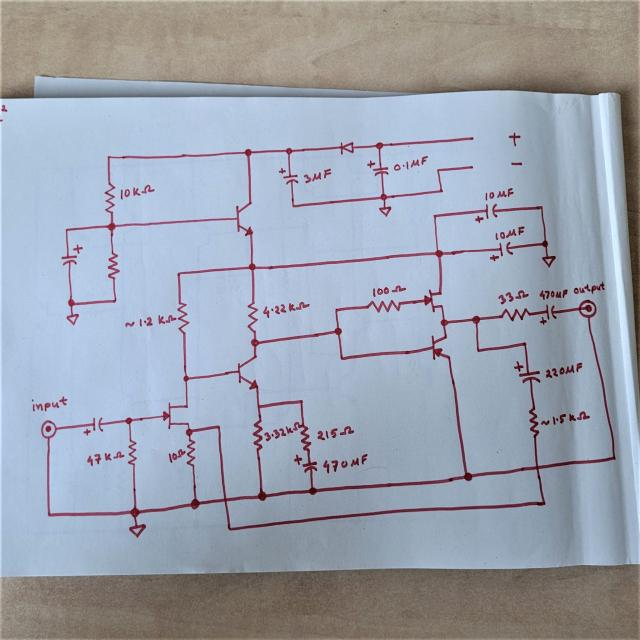capacitor: (513, 359, 541, 384), (489, 240, 514, 264), (60, 244, 84, 268), (474, 202, 498, 223), (293, 454, 318, 473), (82, 416, 104, 436), (538, 304, 558, 326), (278, 167, 300, 185), (366, 160, 389, 177)
crossover: (532, 462, 542, 472), (222, 496, 230, 504)
diode: (337, 140, 356, 156)
ground: (127, 522, 147, 540), (540, 254, 556, 268), (66, 312, 80, 326), (378, 205, 392, 217)
junction: (128, 506, 141, 518), (105, 220, 117, 233), (188, 498, 200, 510), (256, 489, 267, 502), (607, 452, 619, 463), (332, 326, 343, 337), (242, 147, 253, 157), (246, 261, 257, 271), (462, 471, 472, 482), (250, 337, 260, 348), (374, 140, 384, 150), (471, 314, 481, 324), (307, 486, 317, 496), (124, 416, 134, 426), (434, 248, 444, 258), (540, 239, 550, 249), (538, 498, 548, 508), (296, 396, 306, 406), (104, 152, 114, 162), (337, 354, 347, 364), (66, 297, 76, 307), (438, 318, 449, 327), (378, 192, 388, 201), (284, 146, 293, 155), (62, 225, 71, 234), (182, 374, 191, 383), (174, 269, 183, 278), (225, 524, 234, 533), (332, 305, 341, 314), (254, 402, 263, 411), (537, 203, 545, 212), (473, 346, 482, 354), (110, 296, 118, 304), (520, 340, 528, 348), (45, 510, 53, 518), (185, 428, 193, 436), (431, 212, 438, 220), (434, 167, 441, 173), (438, 187, 444, 194), (290, 202, 296, 209), (215, 424, 221, 431)
resistor: (366, 297, 405, 314), (175, 300, 190, 336), (245, 298, 260, 332), (102, 180, 117, 214), (105, 251, 121, 281), (251, 417, 264, 452), (500, 308, 530, 322), (527, 404, 539, 438), (126, 438, 139, 466), (299, 424, 312, 452), (186, 438, 197, 466)
terminal: (578, 299, 597, 318), (40, 419, 57, 439), (469, 134, 475, 141), (470, 164, 475, 170)
text: (261, 299, 312, 319), (322, 453, 368, 474), (123, 313, 175, 329), (540, 410, 590, 426), (263, 421, 303, 441), (28, 395, 69, 413), (84, 448, 124, 466), (545, 361, 583, 379), (392, 155, 430, 173), (118, 183, 156, 200), (316, 424, 355, 440), (302, 167, 333, 184), (498, 289, 530, 305), (484, 186, 514, 202), (573, 280, 605, 295), (493, 226, 526, 240), (370, 284, 406, 296), (538, 288, 568, 300), (168, 448, 185, 463), (507, 131, 521, 147), (510, 161, 523, 167)
transistor: (232, 201, 257, 240), (161, 401, 190, 430), (236, 356, 260, 390), (429, 331, 452, 362), (422, 286, 444, 312)
